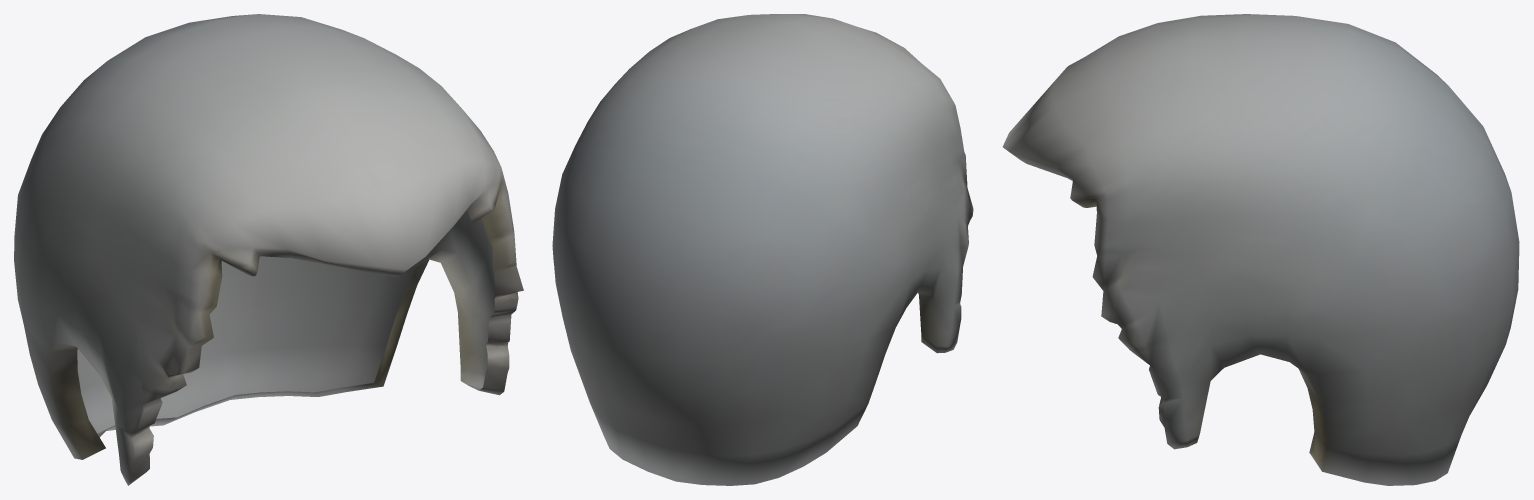
The model's file is Hair_Buzzed.gltf.
The picture shows the model from 3 angles, left to right: view 1: azimuth 30°, elevation 25°; view 2: azimuth 150°, elevation 25°; view 3: azimuth 270°, elevation 25°; orthographic projection. The views are drawn at different scales.
Parts seen in each view (by area): view 1: Hair_Buzzed; view 2: Hair_Buzzed; view 3: Hair_Buzzed.
Boxes of the visible parts, left/top/right/bottom form: Hair_Buzzed: left=14, top=14, right=523, bottom=485; Hair_Buzzed: left=552, top=14, right=973, bottom=485; Hair_Buzzed: left=1002, top=14, right=1519, bottom=485.
Bounding box in the file's own units: 0.1546 × 0.1694 × 0.1909.
1 material, 1 textured.
